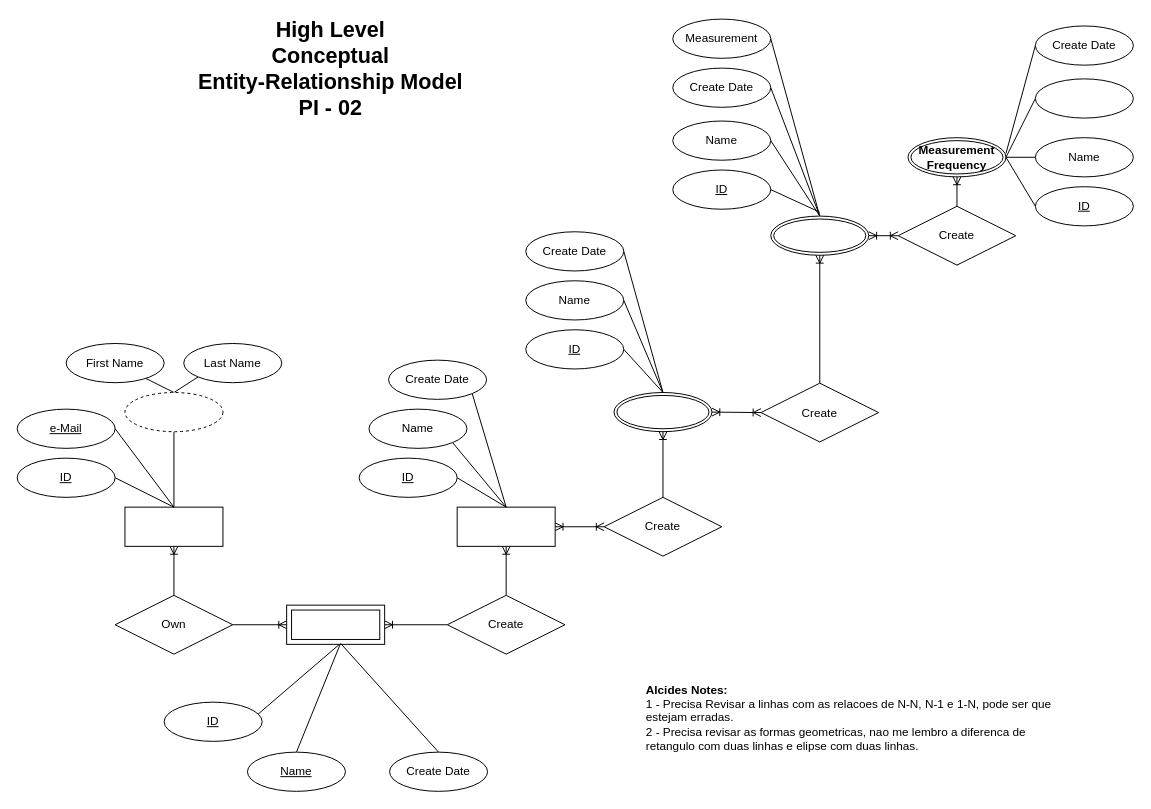
The diagram is 1151 pixels wide and 809 high, and some of its shapes have lost their labels. Each missing label, with the centre of its shape:
Accounts: (x=335, y=624)
Frequency in Days: (x=1083, y=98)
Full Name: (x=173, y=412)
Objectives: (x=662, y=412)
Projects: (x=505, y=526)
Results: (x=819, y=235)
Users: (x=173, y=526)
